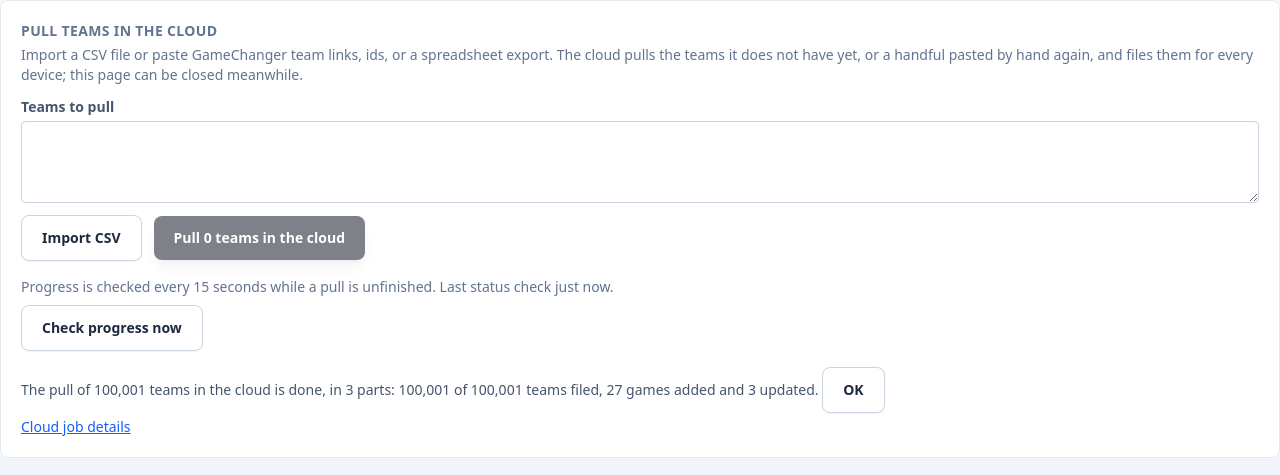
Test: a list sent in parts › says the whole list's end once, and OK tells of every part
This screenshot has width=1280, height=475.
Expected: the text "The pull of 100,001 teams in the cloud is done, in 3 parts: 100,001 of 100,001 teams filed, 27 games added and 3 updated" is shown, [21,380,819,399]
What coordinates should you click on to do the following:
click the button "OK"
I would click on:
 (853, 390)
Its box is [822,367,885,413].
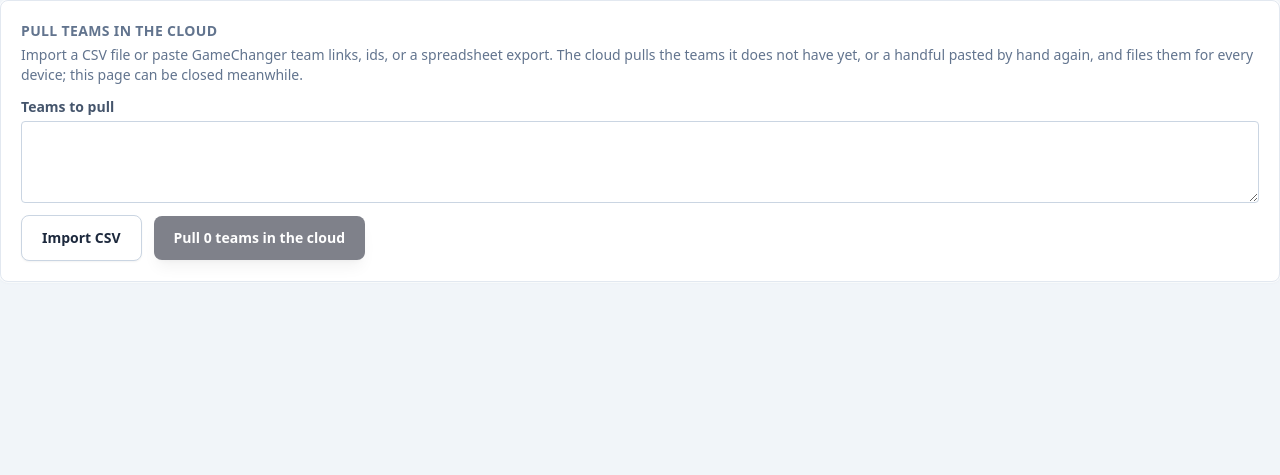
Now the list item is gone
